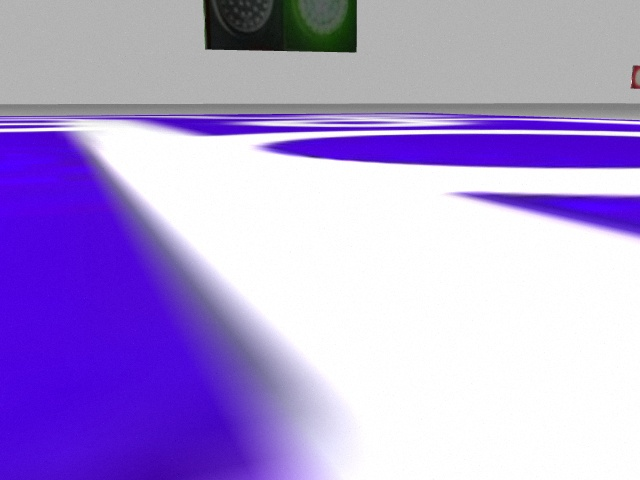green: (284, 1, 357, 50)
